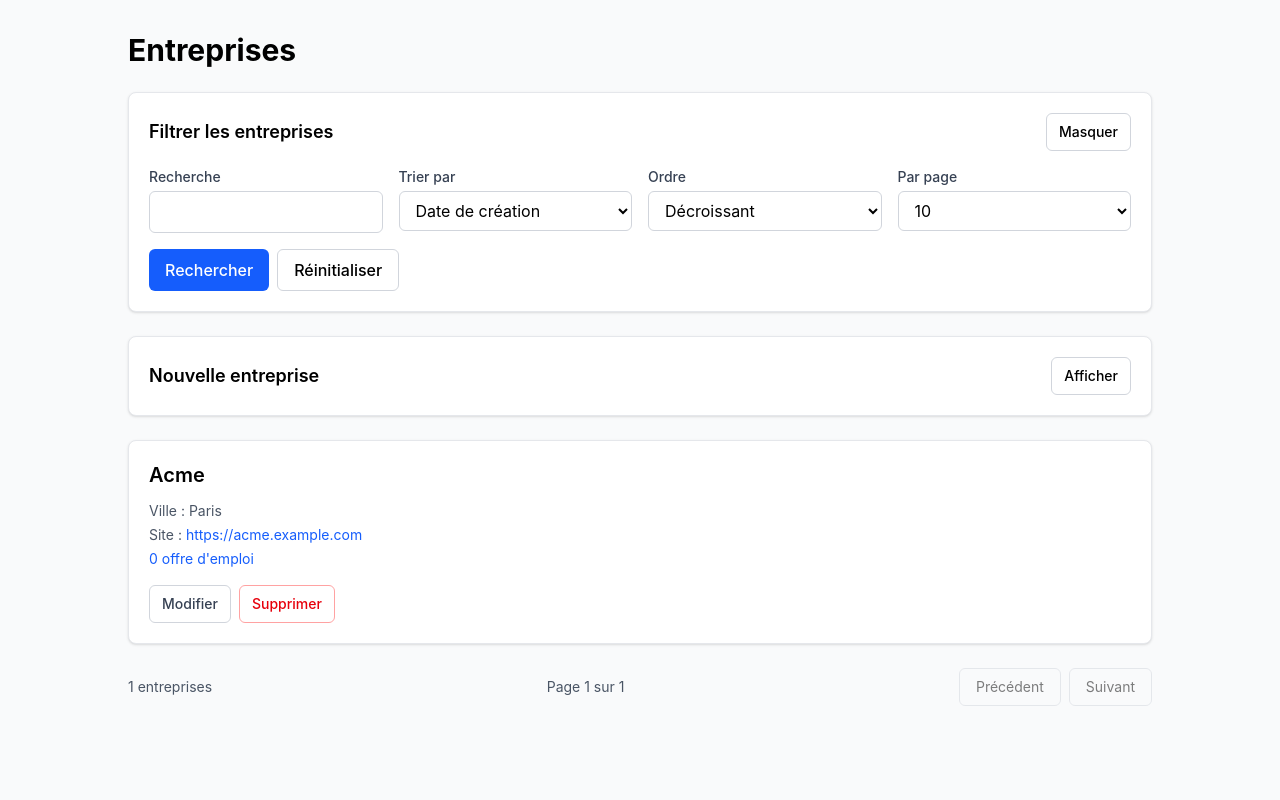
Test: CompaniesPage › prefills the edit form with the company
Click the button "Modifier" at (190, 604), box [149,585,231,623]
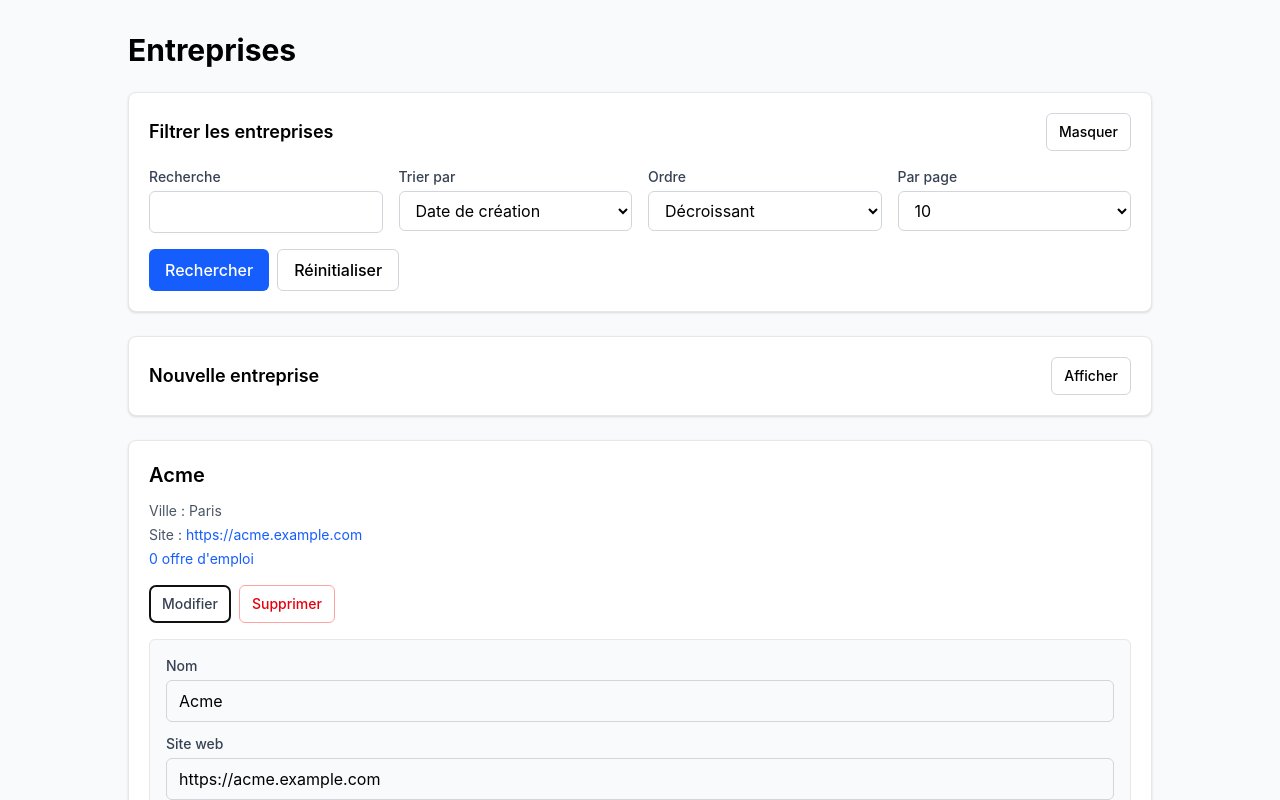
Expected: the field labelled "Nom" holds "Acme", [166,680,1114,722]
Expected: the field labelled "Site web" holds "https://acme.example.com", [166,758,1114,799]
